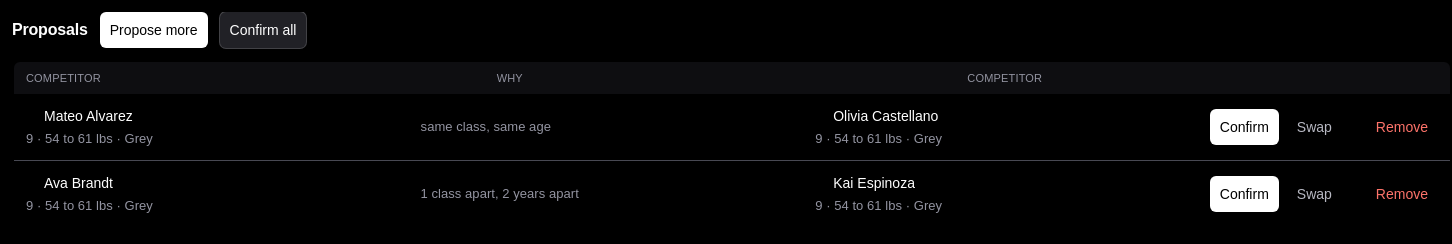
Test: ProposalsPanel › counts the drafts confirm all left in place, and keeps them on the screen
Expected: the text "same class, same age" is shown, [421,119,551,134]
Click the button "Confirm all": x=263, y=30 [220,12,306,48]
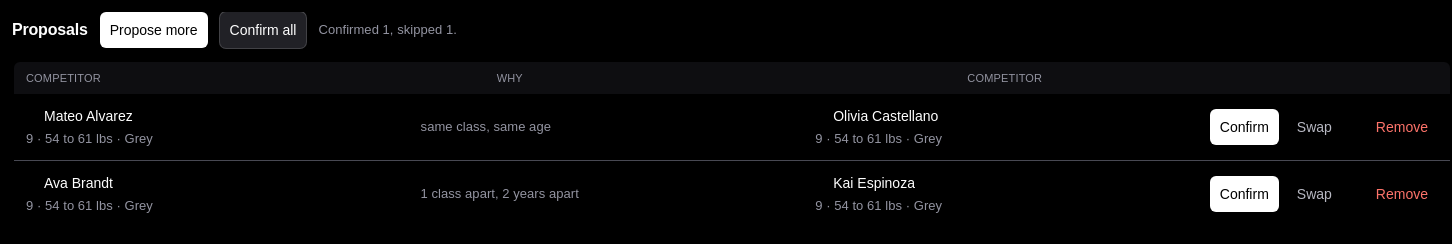
Expected: the number of list items is 2, [14,94,1450,160]; [14,160,1450,227]
Result: the text "Confirmed 1, skipped 1." is shown at [318,21,457,39]
